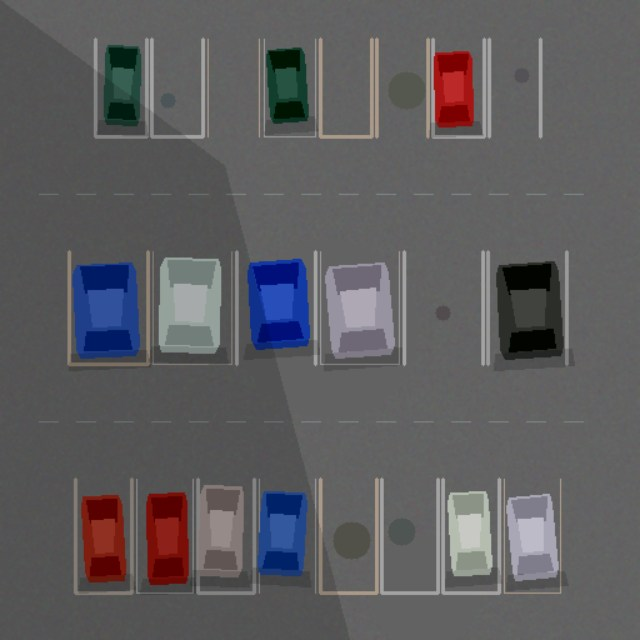space-empty: (404, 251, 483, 364), (320, 479, 376, 592), (381, 479, 437, 592), (376, 39, 428, 136), (151, 39, 202, 136), (208, 39, 259, 136), (320, 39, 371, 136), (489, 39, 540, 136)
space-occupied: (236, 251, 315, 364), (320, 251, 399, 364), (487, 251, 566, 364), (69, 251, 147, 364), (153, 251, 231, 364), (136, 479, 193, 592), (197, 479, 254, 592), (75, 479, 131, 592), (259, 479, 315, 592), (443, 479, 499, 592), (504, 479, 560, 592), (432, 39, 484, 136), (95, 39, 146, 136), (264, 39, 315, 136)
